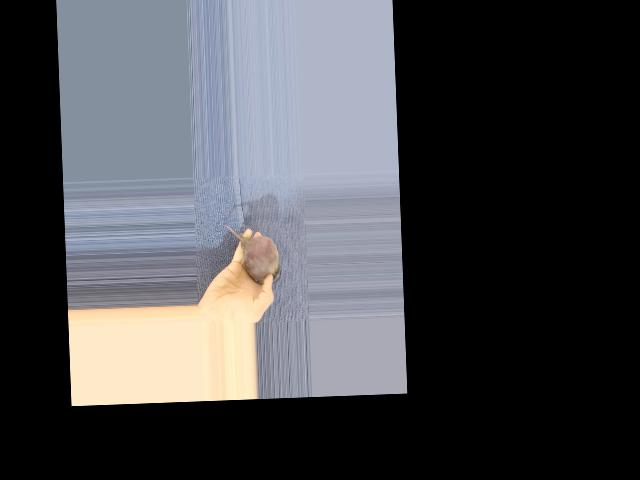beet: (224, 222, 281, 285)
